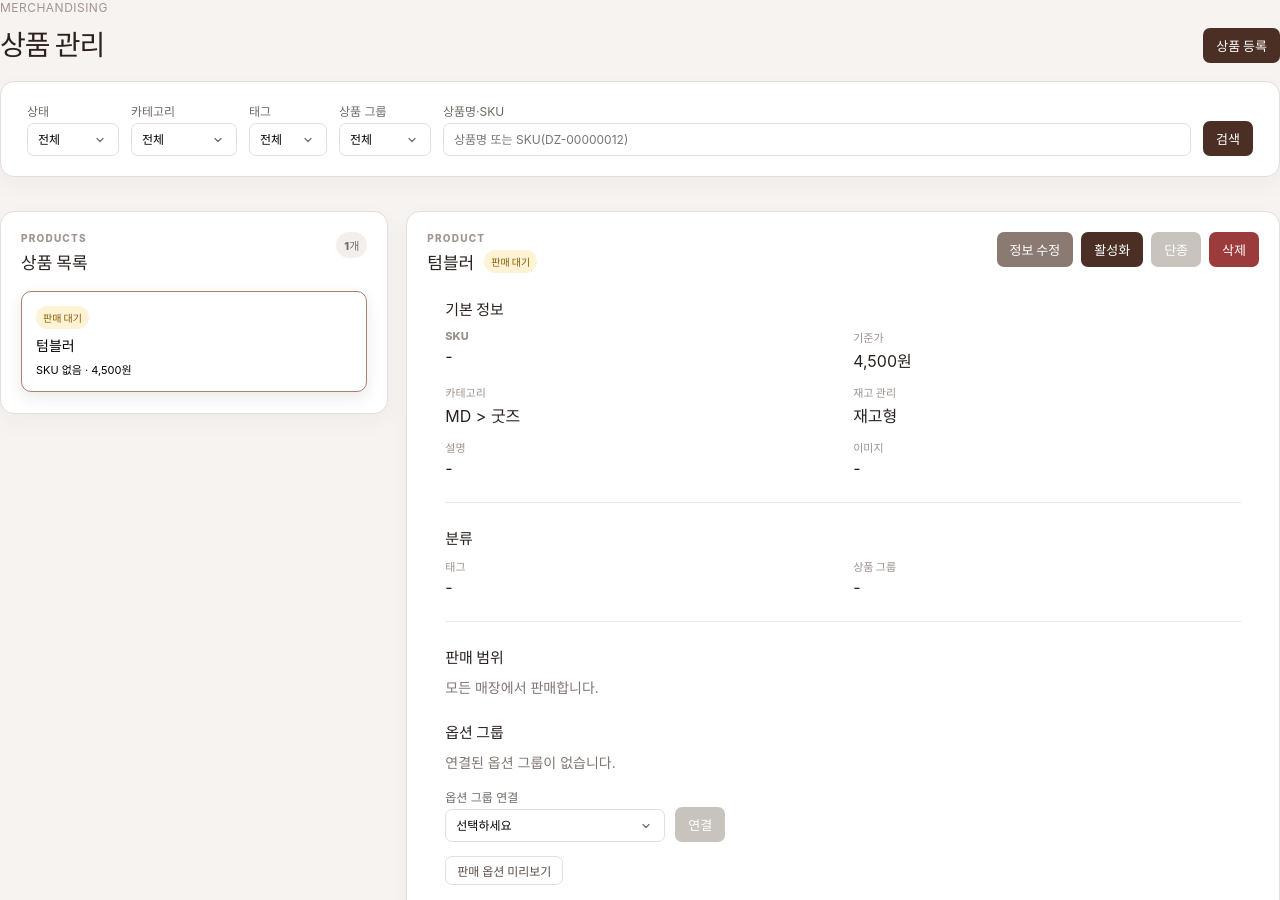
Scenario: ProductsPage 쓰기 › 활성화·삭제도 확인 후 요청하고 성공하면 토스트로 알린다
Click the button "활성화" at point(1112, 250), box [1081,232,1143,267]
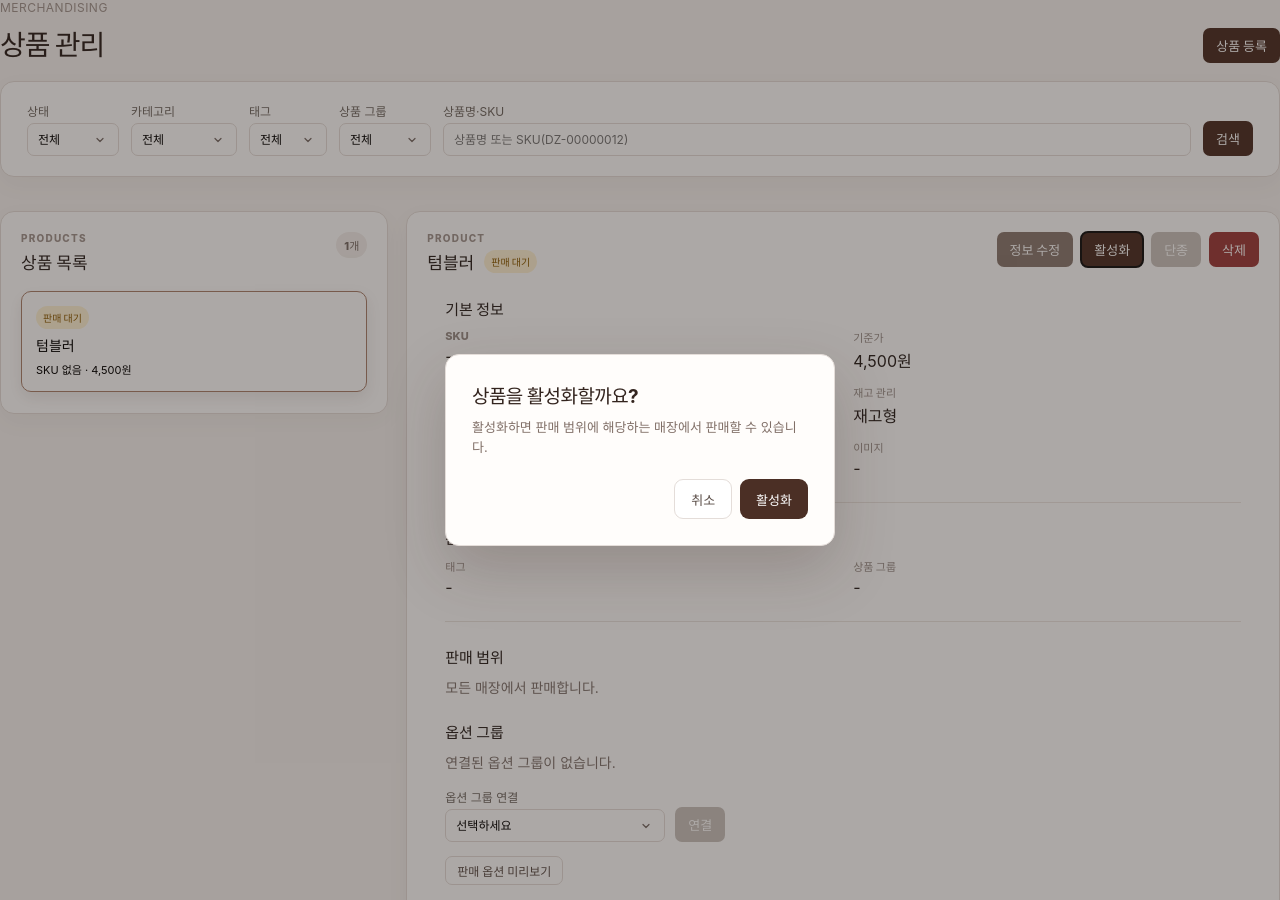
Click the button "활성화" at point(774, 499), box [740,479,808,519]
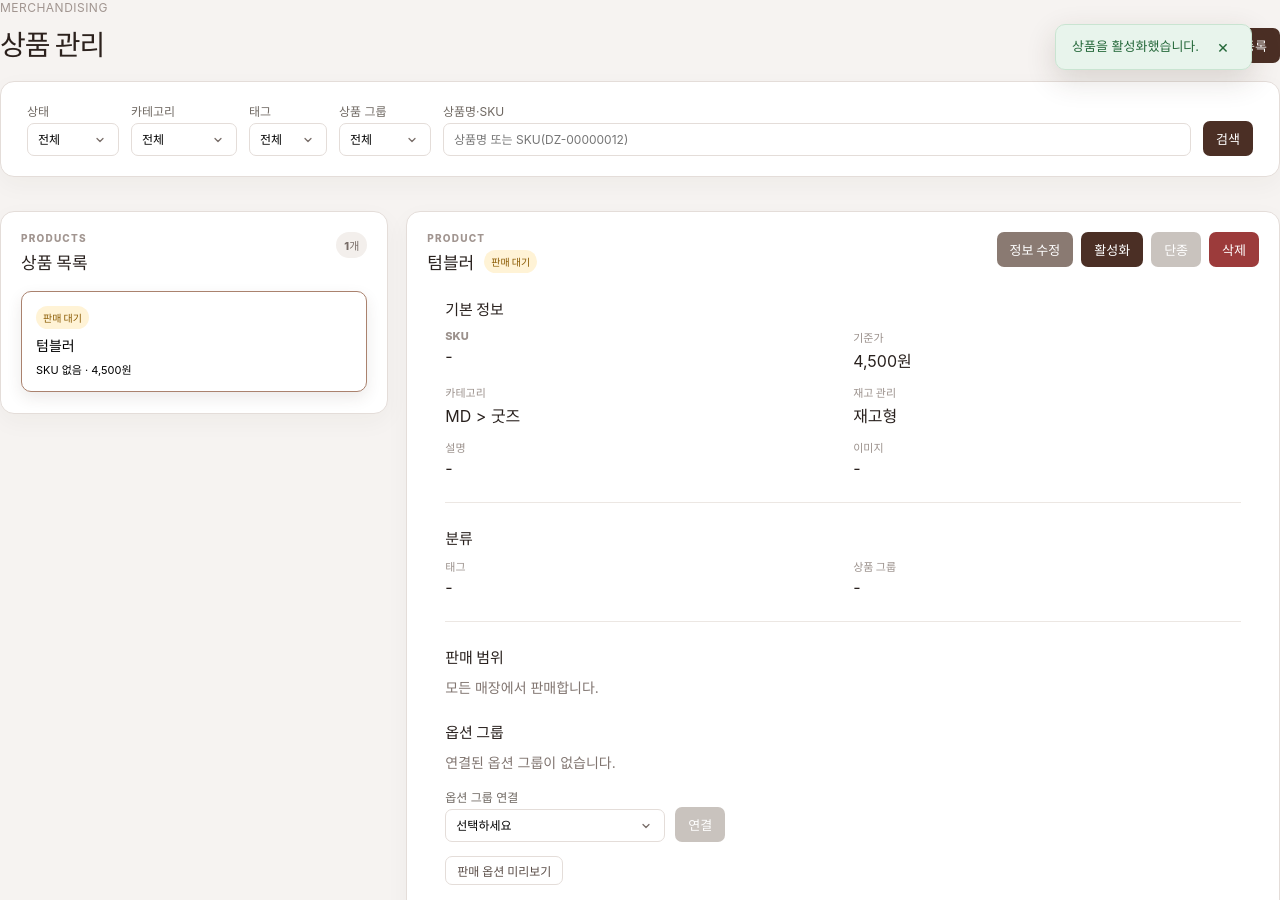
Check: the text "상품을 활성화했습니다." is shown, box [1072,38,1199,54]
Click the button "삭제" at point(1234, 250), box [1209,232,1259,267]
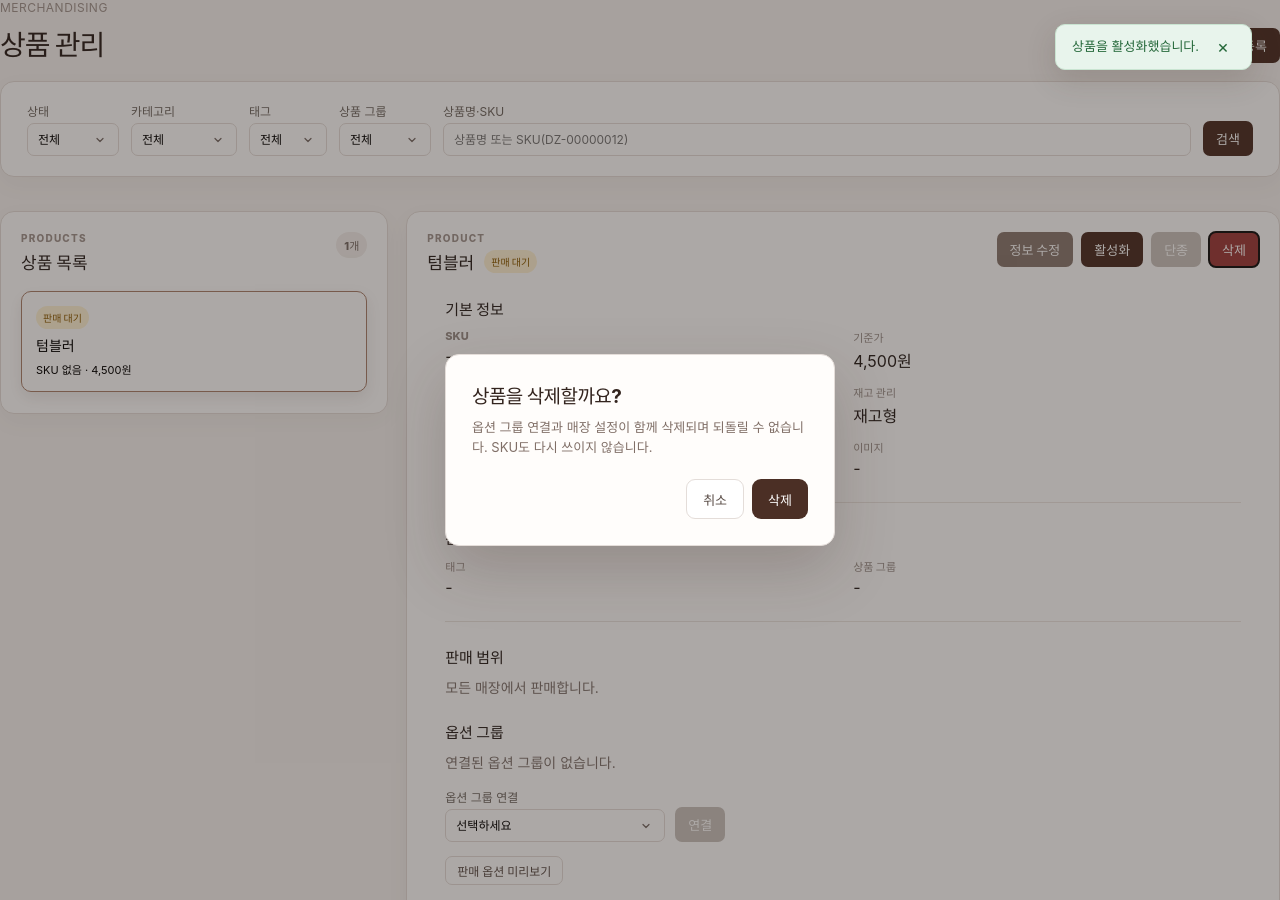
Click the button "삭제" at point(780, 499), box [752,479,808,519]
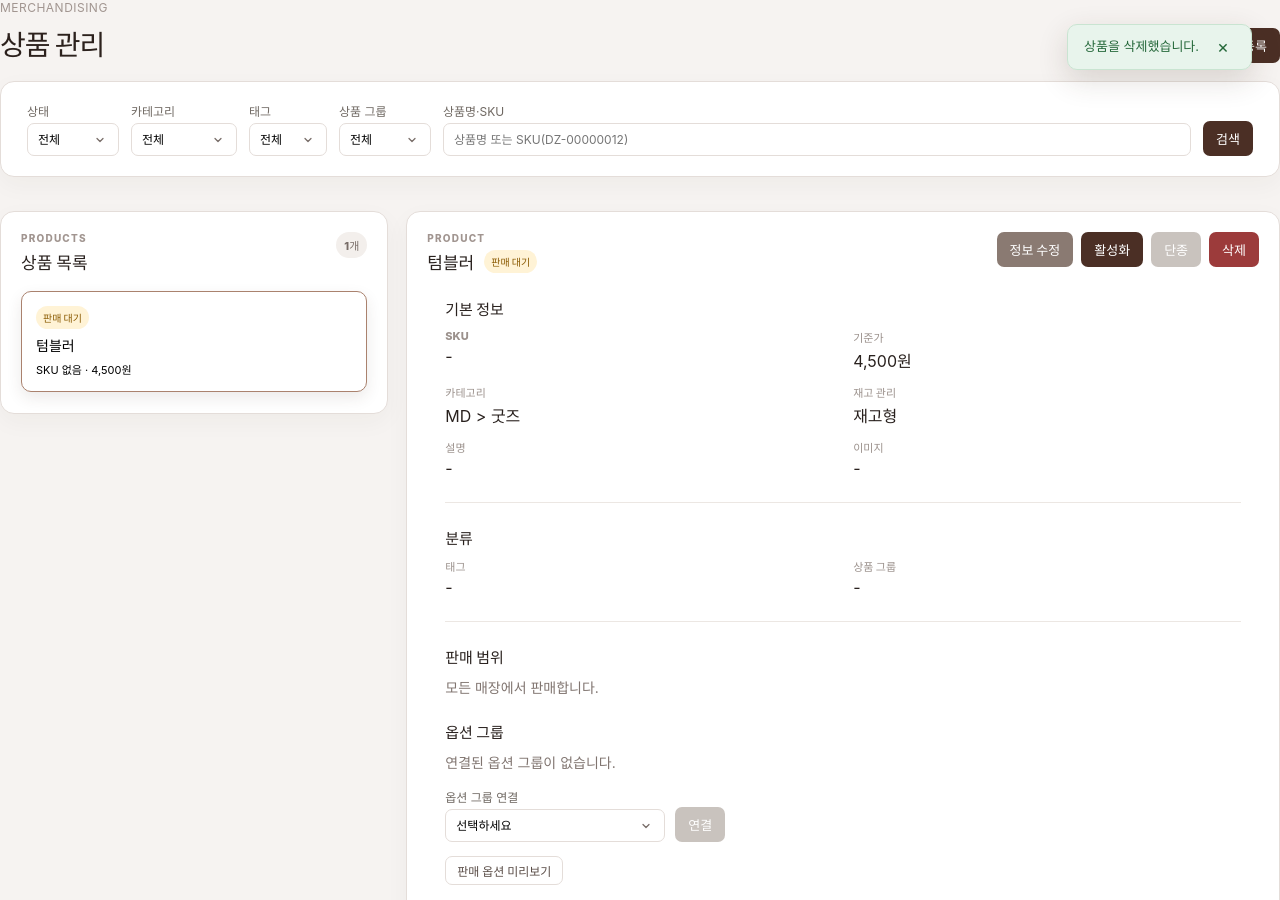
Check: the text "상품을 삭제했습니다." is shown, box [1084,38,1199,54]
